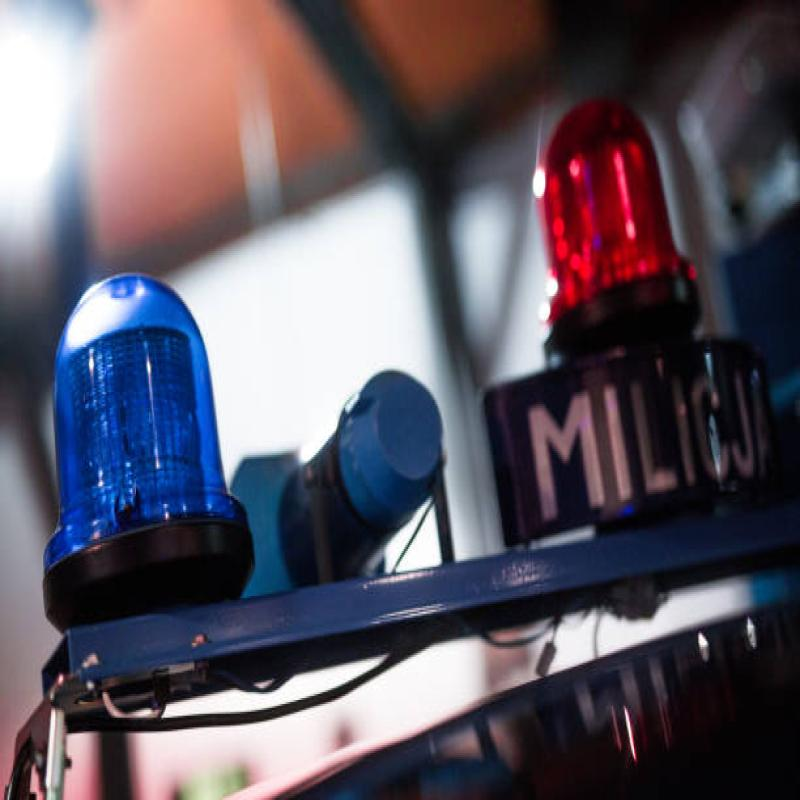AmbulanceSiren: (24, 214, 249, 620), (507, 75, 709, 386)
